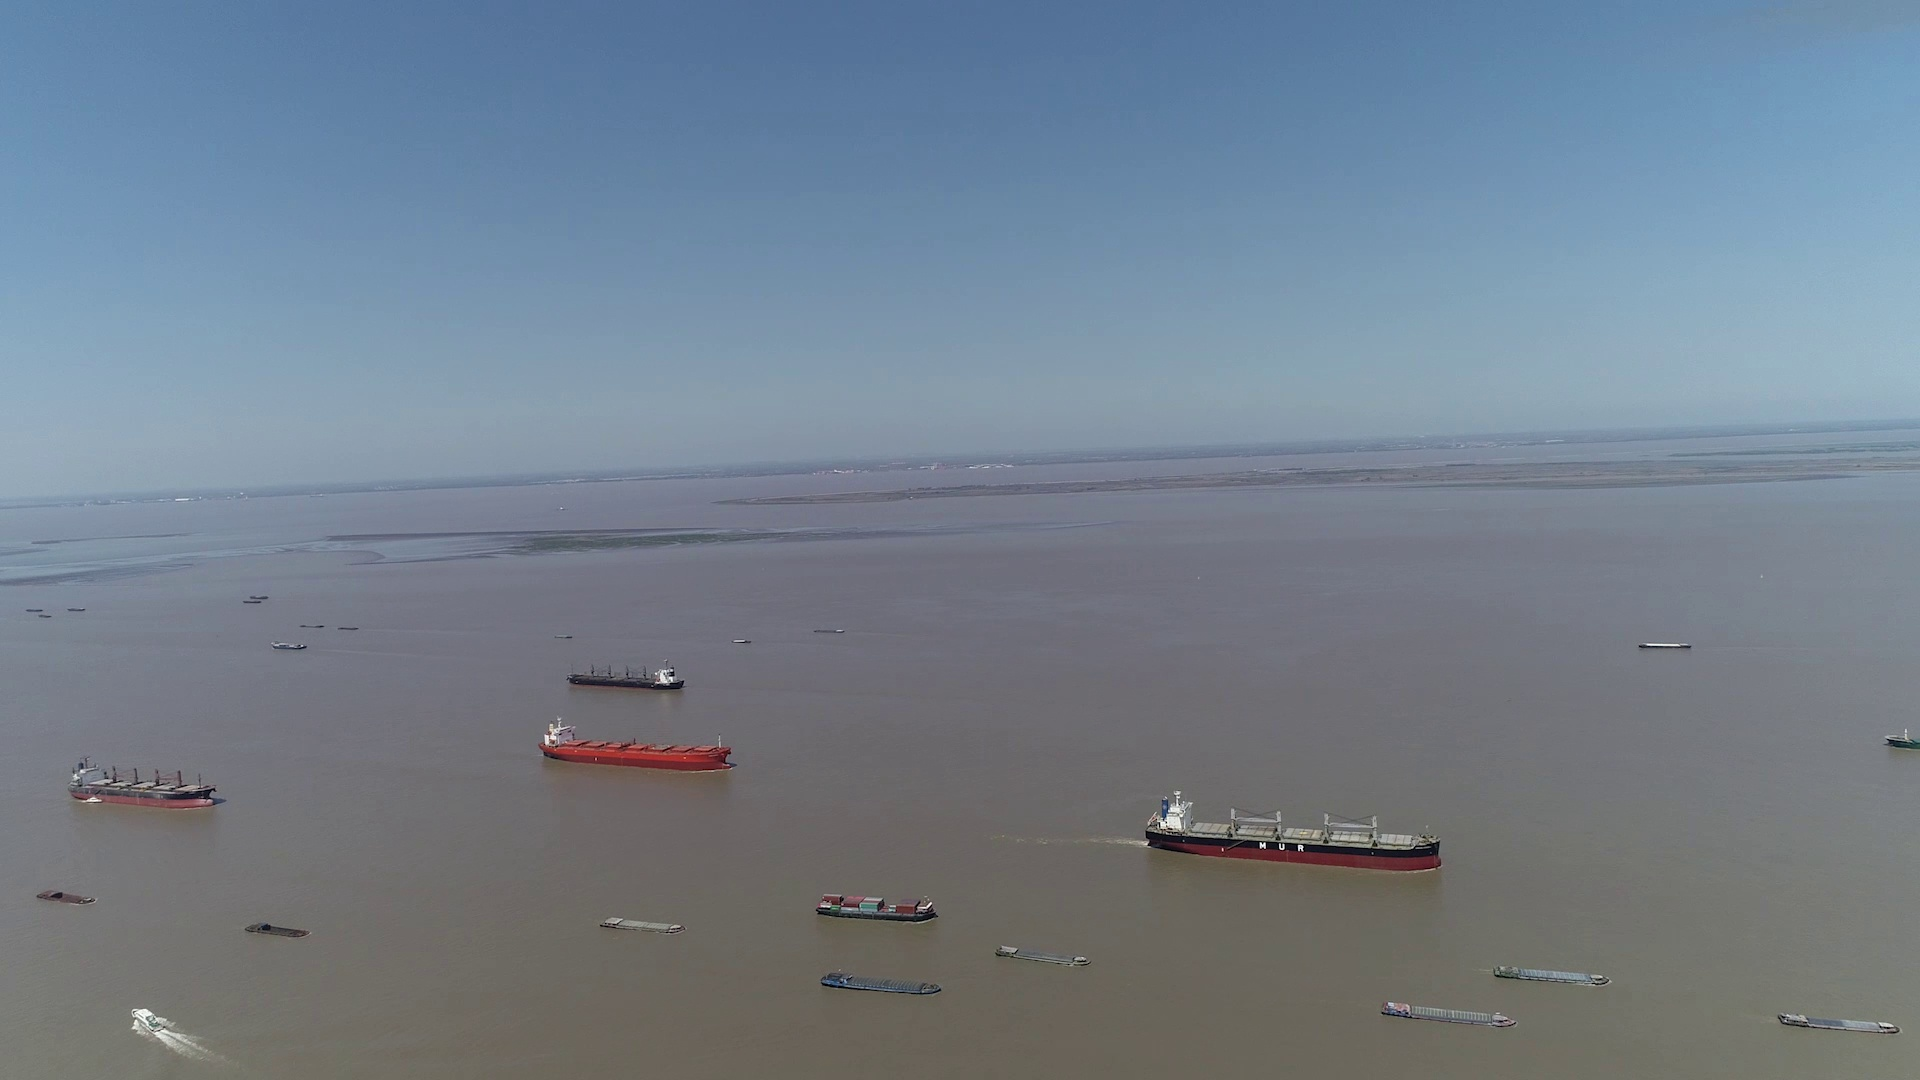ship: (1145, 790, 1444, 872), (541, 717, 731, 771), (71, 760, 222, 810), (1379, 1001, 1516, 1029), (815, 891, 938, 922), (568, 659, 683, 688), (1491, 963, 1610, 986), (820, 971, 939, 994), (1778, 1010, 1899, 1033), (996, 944, 1091, 965), (597, 916, 684, 934), (247, 920, 309, 938), (132, 1009, 167, 1035), (34, 889, 91, 905), (1884, 728, 1917, 752), (1636, 640, 1693, 647), (270, 640, 307, 649)
